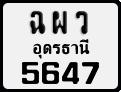letters: (21, 60, 40, 86), (29, 9, 46, 36), (41, 61, 60, 85), (61, 61, 80, 85), (81, 61, 100, 85), (51, 10, 68, 35), (75, 10, 89, 35)
province: (33, 38, 91, 60)
